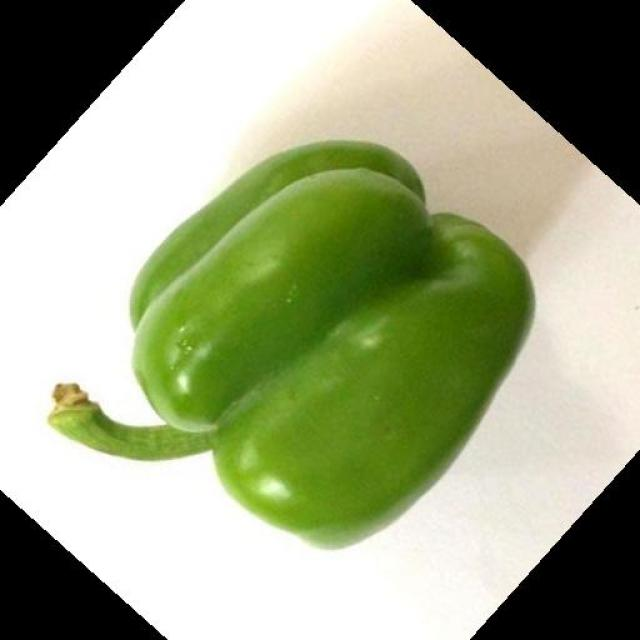Fresh_Capsicum: (103, 98, 544, 535)
